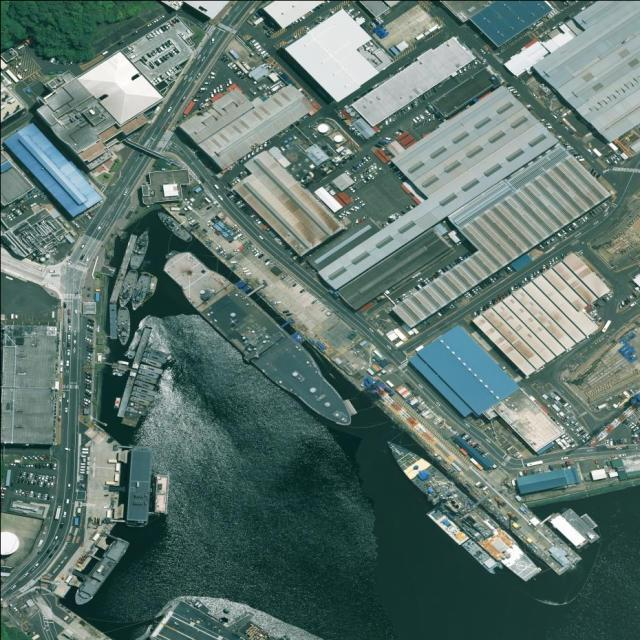Commander: (156, 237, 363, 440)
Destroyer: (380, 429, 544, 588)
Other Warship: (71, 535, 131, 609), (155, 209, 195, 246), (128, 228, 153, 271), (116, 267, 140, 310), (130, 270, 152, 312), (117, 307, 131, 347)
